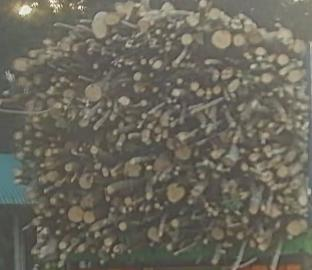medium: (212, 31, 230, 48), (168, 183, 184, 202), (124, 162, 141, 176), (86, 84, 100, 100), (93, 21, 107, 37), (279, 28, 293, 44), (80, 174, 94, 189), (288, 220, 302, 234), (175, 147, 190, 160), (70, 207, 83, 221), (14, 59, 28, 71), (248, 32, 262, 44), (221, 68, 234, 80), (84, 210, 95, 224), (105, 14, 119, 25), (288, 70, 302, 81), (149, 227, 159, 242), (191, 186, 204, 197), (167, 139, 181, 149), (212, 228, 224, 239), (234, 34, 245, 46), (228, 80, 239, 92), (261, 172, 274, 182), (186, 16, 198, 26), (113, 245, 126, 254), (278, 54, 288, 65), (134, 83, 145, 93), (142, 129, 150, 142), (210, 9, 220, 19), (262, 74, 272, 84), (278, 167, 288, 177), (256, 47, 266, 56), (138, 20, 148, 29), (183, 35, 191, 44), (48, 172, 57, 180), (299, 197, 307, 206), (290, 180, 298, 189), (14, 168, 22, 176), (46, 149, 52, 156), (33, 219, 40, 225), (80, 261, 86, 268), (35, 149, 40, 156)
small: (119, 96, 129, 105), (248, 206, 258, 215), (64, 89, 74, 98), (133, 72, 142, 81), (249, 154, 259, 162), (119, 222, 127, 231), (213, 86, 221, 94), (212, 151, 220, 159), (102, 168, 109, 177), (153, 61, 162, 68), (192, 81, 198, 91), (60, 242, 67, 250), (241, 163, 248, 171), (258, 243, 266, 250), (65, 164, 72, 172), (14, 132, 22, 139), (47, 99, 55, 106), (171, 219, 178, 226), (71, 44, 78, 51), (172, 90, 179, 97), (107, 186, 113, 194), (91, 225, 99, 231), (245, 25, 253, 31), (110, 114, 116, 121), (177, 78, 184, 84), (141, 99, 147, 106), (124, 198, 131, 204), (25, 140, 32, 146), (91, 146, 97, 153), (105, 239, 112, 245), (29, 51, 35, 58), (199, 0, 206, 6), (237, 233, 243, 240), (155, 111, 162, 117), (264, 146, 270, 153), (146, 193, 152, 199), (166, 245, 172, 251), (95, 163, 101, 169), (93, 63, 98, 70), (250, 240, 255, 247), (63, 99, 70, 104), (79, 245, 84, 252), (54, 102, 61, 107), (148, 123, 153, 129), (153, 87, 158, 93), (243, 218, 249, 223), (205, 59, 210, 65), (199, 174, 205, 179), (212, 260, 218, 265), (35, 208, 40, 214), (61, 254, 66, 260), (91, 248, 96, 254), (117, 142, 123, 147), (95, 232, 99, 239), (31, 250, 38, 254), (142, 114, 147, 119), (155, 128, 160, 133), (141, 59, 146, 64), (208, 208, 213, 213), (257, 56, 262, 61), (34, 117, 39, 122), (53, 149, 58, 154), (50, 199, 55, 204), (130, 159, 135, 164), (131, 66, 136, 71), (46, 212, 51, 217), (268, 57, 273, 62), (280, 70, 285, 75), (267, 152, 272, 157), (71, 224, 77, 228), (113, 129, 117, 135), (146, 166, 152, 170), (166, 42, 172, 46), (246, 55, 252, 59), (171, 34, 175, 39), (238, 107, 242, 112), (213, 212, 218, 216), (146, 206, 150, 211), (122, 208, 126, 213), (100, 260, 104, 265), (149, 59, 153, 64), (257, 238, 262, 242), (36, 132, 41, 136), (111, 254, 115, 259), (126, 118, 131, 122), (119, 122, 123, 127), (46, 264, 50, 269), (176, 58, 180, 63), (239, 14, 243, 19), (269, 92, 273, 97), (230, 123, 235, 127), (106, 40, 111, 44), (108, 103, 112, 107), (205, 203, 209, 207), (224, 209, 228, 213), (79, 148, 83, 152), (106, 197, 110, 201), (60, 194, 64, 198), (55, 83, 59, 87), (64, 53, 68, 57), (150, 73, 154, 77), (167, 82, 171, 86), (119, 59, 123, 63), (173, 99, 177, 103), (40, 204, 44, 208), (166, 47, 170, 51), (168, 25, 172, 29), (288, 99, 292, 103), (298, 62, 302, 66), (255, 77, 259, 81), (157, 29, 160, 34), (250, 65, 255, 68), (204, 239, 207, 244), (297, 122, 300, 127), (156, 204, 159, 208), (140, 207, 143, 211), (41, 164, 44, 168), (60, 210, 64, 213), (98, 109, 102, 112), (60, 78, 64, 81), (52, 78, 56, 81), (166, 67, 170, 70), (94, 126, 97, 130), (201, 125, 204, 129), (241, 149, 244, 153), (269, 123, 272, 127), (128, 62, 132, 65), (177, 104, 180, 108), (170, 117, 173, 121), (171, 123, 174, 127), (191, 110, 194, 114), (248, 134, 252, 137), (128, 135, 131, 139), (103, 230, 107, 233), (159, 50, 163, 53), (298, 116, 302, 119), (244, 53, 248, 56), (173, 253, 177, 256), (111, 61, 114, 65), (129, 208, 132, 211), (51, 144, 54, 147), (128, 250, 131, 253), (57, 219, 60, 222), (111, 208, 114, 211), (176, 167, 179, 170), (175, 172, 178, 175), (113, 54, 116, 57), (127, 111, 130, 114), (227, 98, 230, 101), (78, 227, 81, 230), (86, 233, 89, 236), (302, 106, 305, 109), (180, 212, 183, 215), (285, 207, 288, 210), (57, 230, 59, 234), (254, 149, 258, 151), (70, 83, 72, 86), (118, 65, 121, 67), (189, 107, 191, 110), (123, 84, 125, 87), (104, 72, 106, 75)
